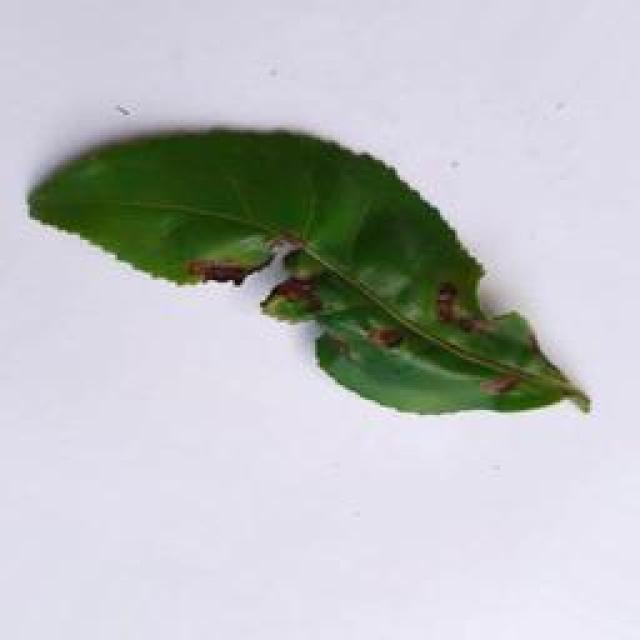Helopeltis: (26, 116, 593, 424)
